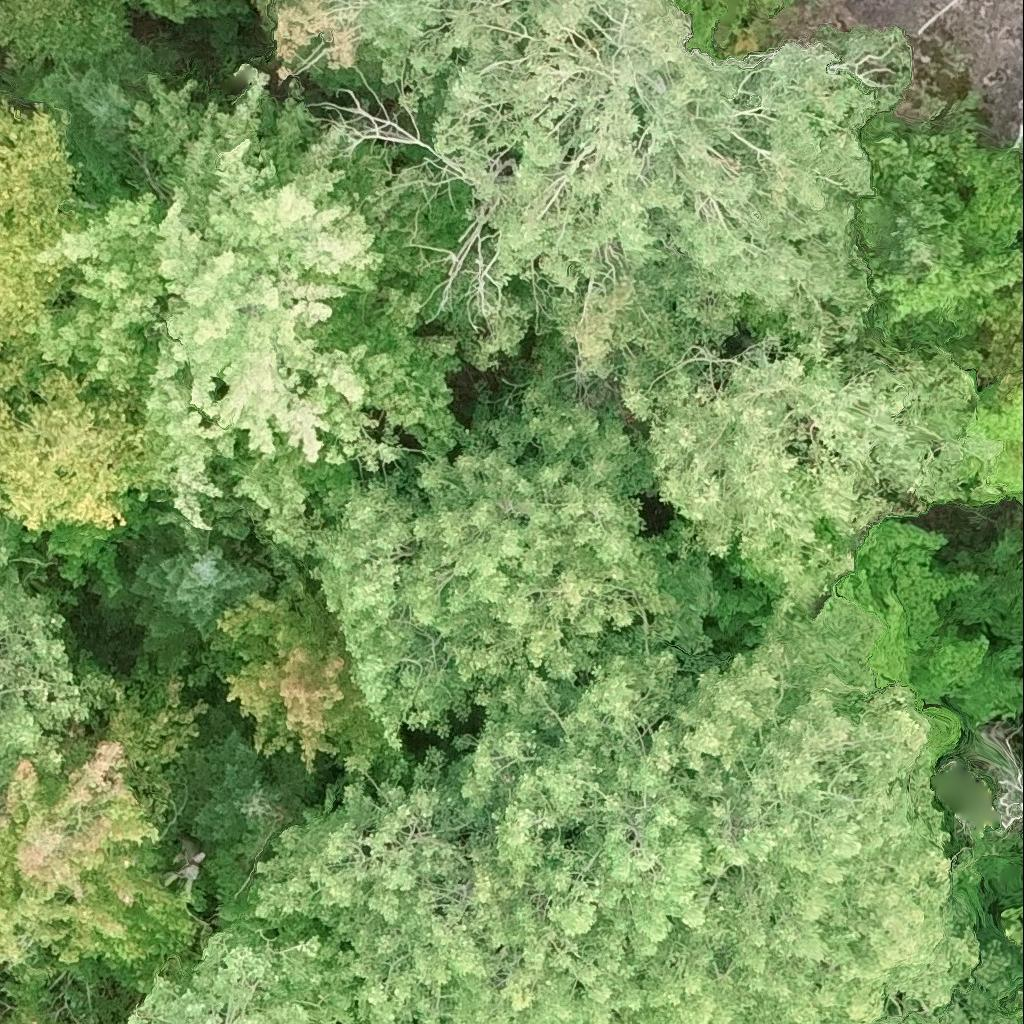crown: (258, 601, 1023, 1023), (271, 389, 713, 736), (0, 677, 212, 995), (200, 569, 411, 776), (0, 543, 97, 798), (129, 933, 364, 1023), (175, 731, 311, 860), (129, 546, 277, 637), (12, 987, 72, 1023)
